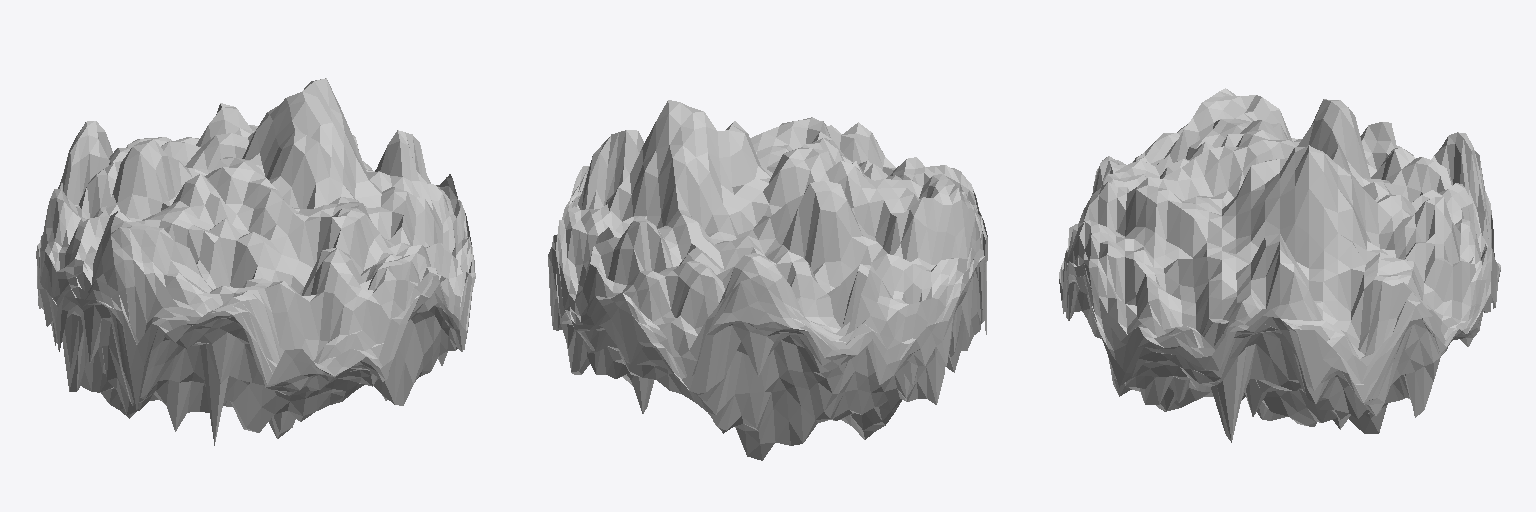
The model's file is small-island.obj.
3 renders of one model, left to right at view 1: azimuth 30°, elevation 25°; view 2: azimuth 150°, elevation 25°; view 3: azimuth 270°, elevation 25°, orthographic.
Size of the model in its own units: 10 by 7.3 by 10.